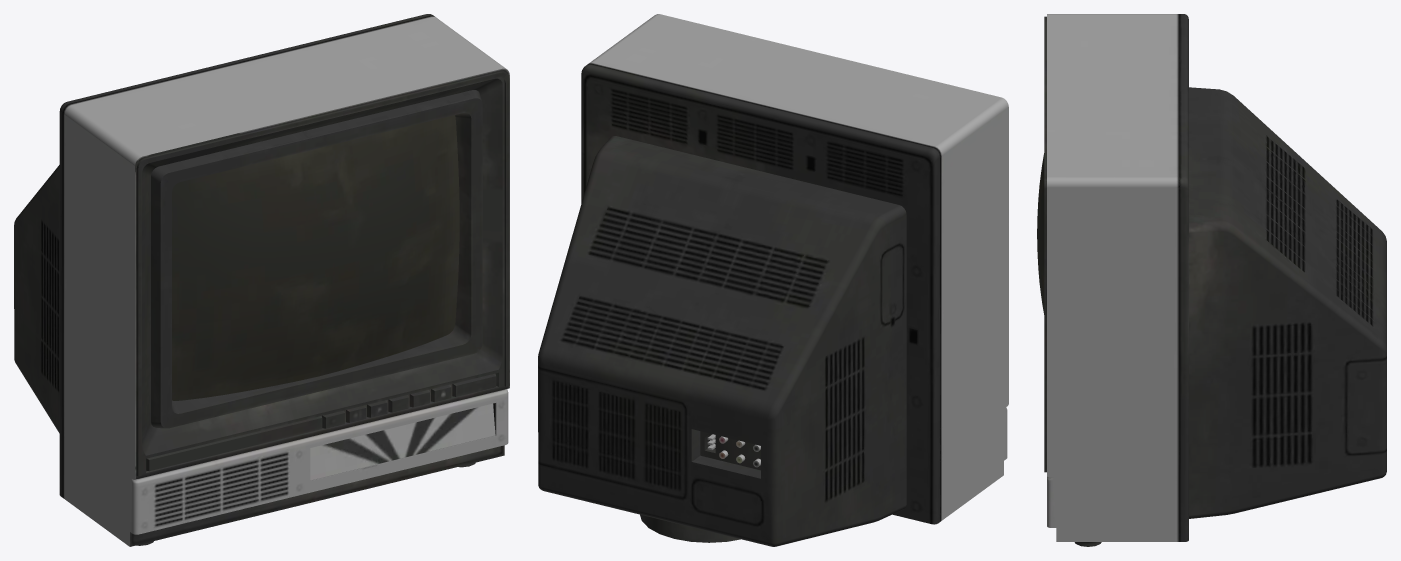
The model's file is television_02.glb.
The picture shows the model from 3 angles, left to right: view 1: azimuth 30°, elevation 25°; view 2: azimuth 150°, elevation 25°; view 3: azimuth 270°, elevation 25°; orthographic projection. The views are drawn at different scales.
Visible parts, largest first — view 1: television_02; view 2: television_02; view 3: television_02.
Boxes of the visible parts, x1,y1,x2,y2 form: television_02: (14,14,509,546); television_02: (538,14,1008,546); television_02: (1037,14,1386,546).
Size of the model in its own units: 0.3998 by 0.4114 by 0.3502.
1 material, 1 textured.
